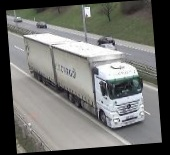car: (36, 22, 46, 29), (14, 17, 22, 23)
